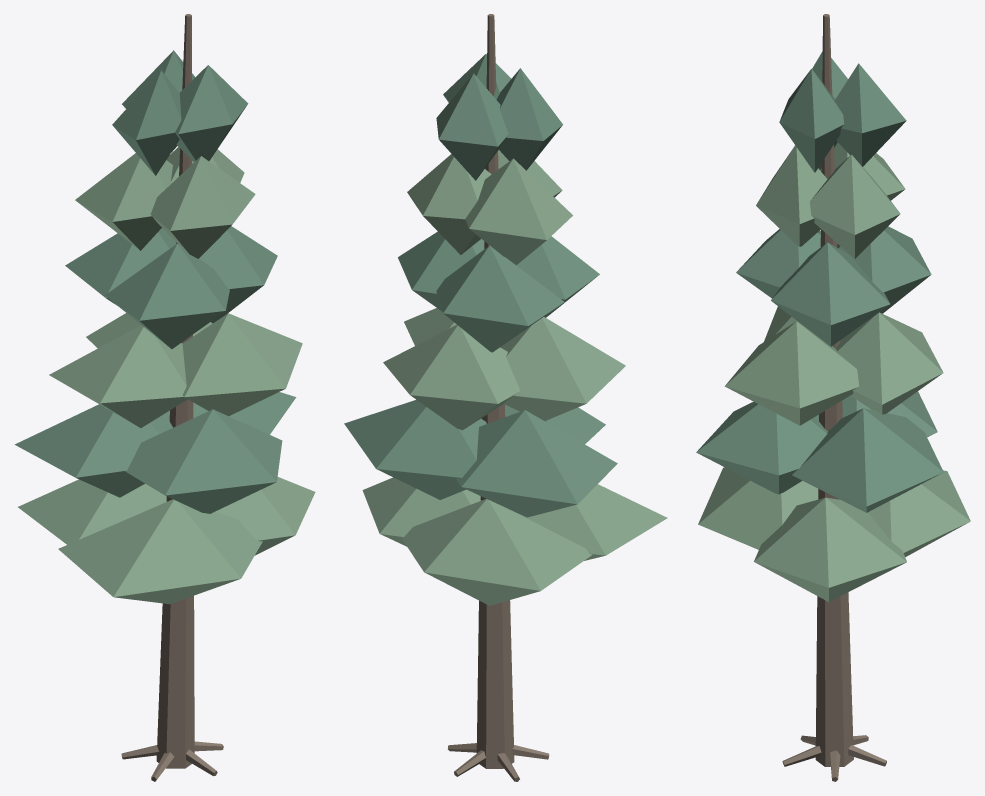
3 renders of one model, left to right at view 1: azimuth 30°, elevation 25°; view 2: azimuth 150°, elevation 25°; view 3: azimuth 270°, elevation 25°, orthographic.
Bounding box in the file's own units: 8.92 × 24.61 × 8.19.
